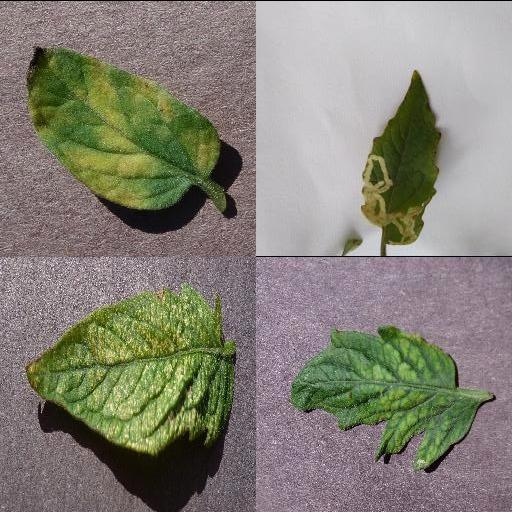Leaf Miner: (358, 71, 444, 245)
Leaf Mold: (25, 44, 221, 208)
Mosaic Virus: (288, 322, 478, 469)
Spider Mites: (24, 287, 238, 457)
